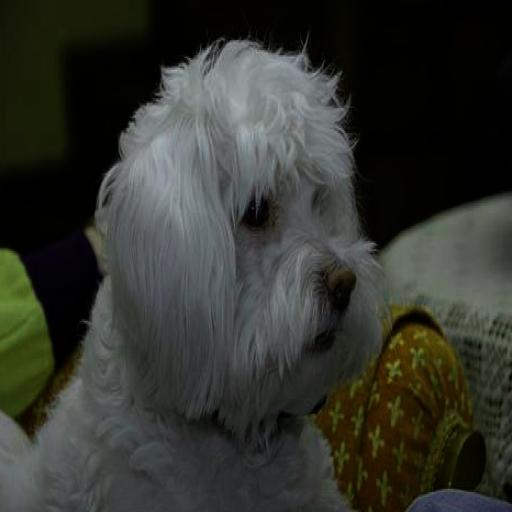dog_face: (106, 49, 388, 420)
